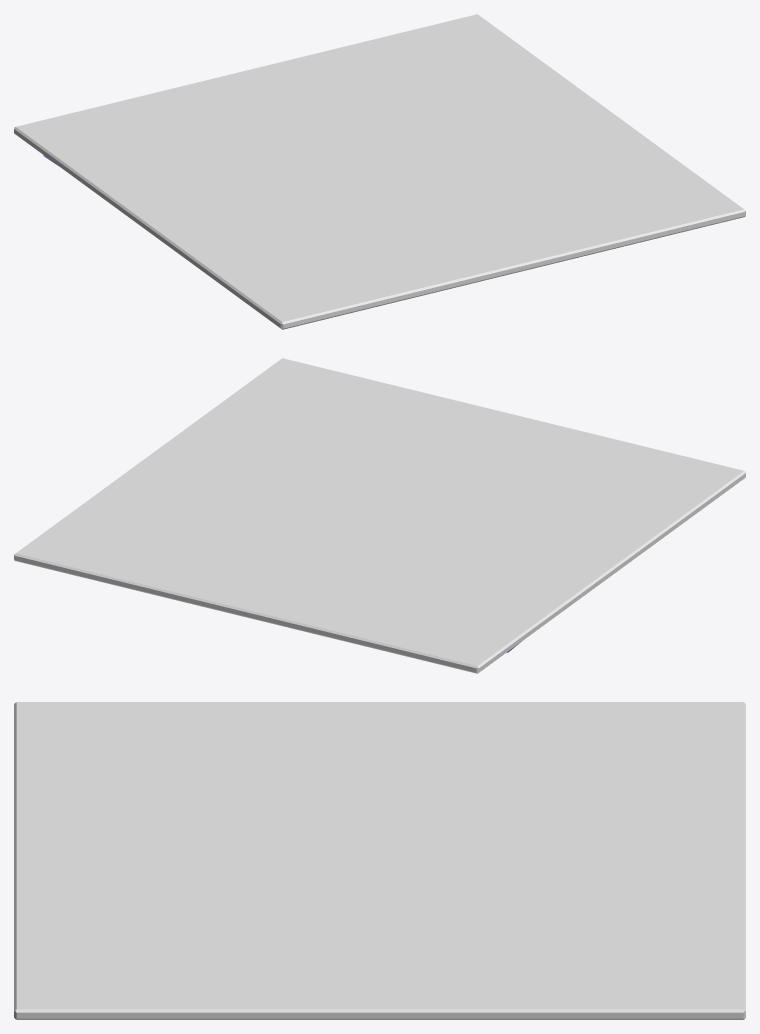
Rendered from SM_slum_roof_01.fbx.
The picture shows the model from 3 angles, top to bottom: view 1: azimuth 30°, elevation 25°; view 2: azimuth 150°, elevation 25°; view 3: azimuth 270°, elevation 25°; orthographic projection. The views are drawn at different scales.
Parts seen in each view (by area): view 1: SM_slum_roof_01_ConvexHulls; view 2: SM_slum_roof_01_ConvexHulls; view 3: SM_slum_roof_01_ConvexHulls.
Boxes of the visible parts, box(x1,y1,x2,y2) form: SM_slum_roof_01_ConvexHulls: box(14, 14, 745, 329); SM_slum_roof_01_ConvexHulls: box(14, 358, 745, 673); SM_slum_roof_01_ConvexHulls: box(14, 702, 745, 1019).
Size of the model in its own units: 400 by 400 by 6.41.
